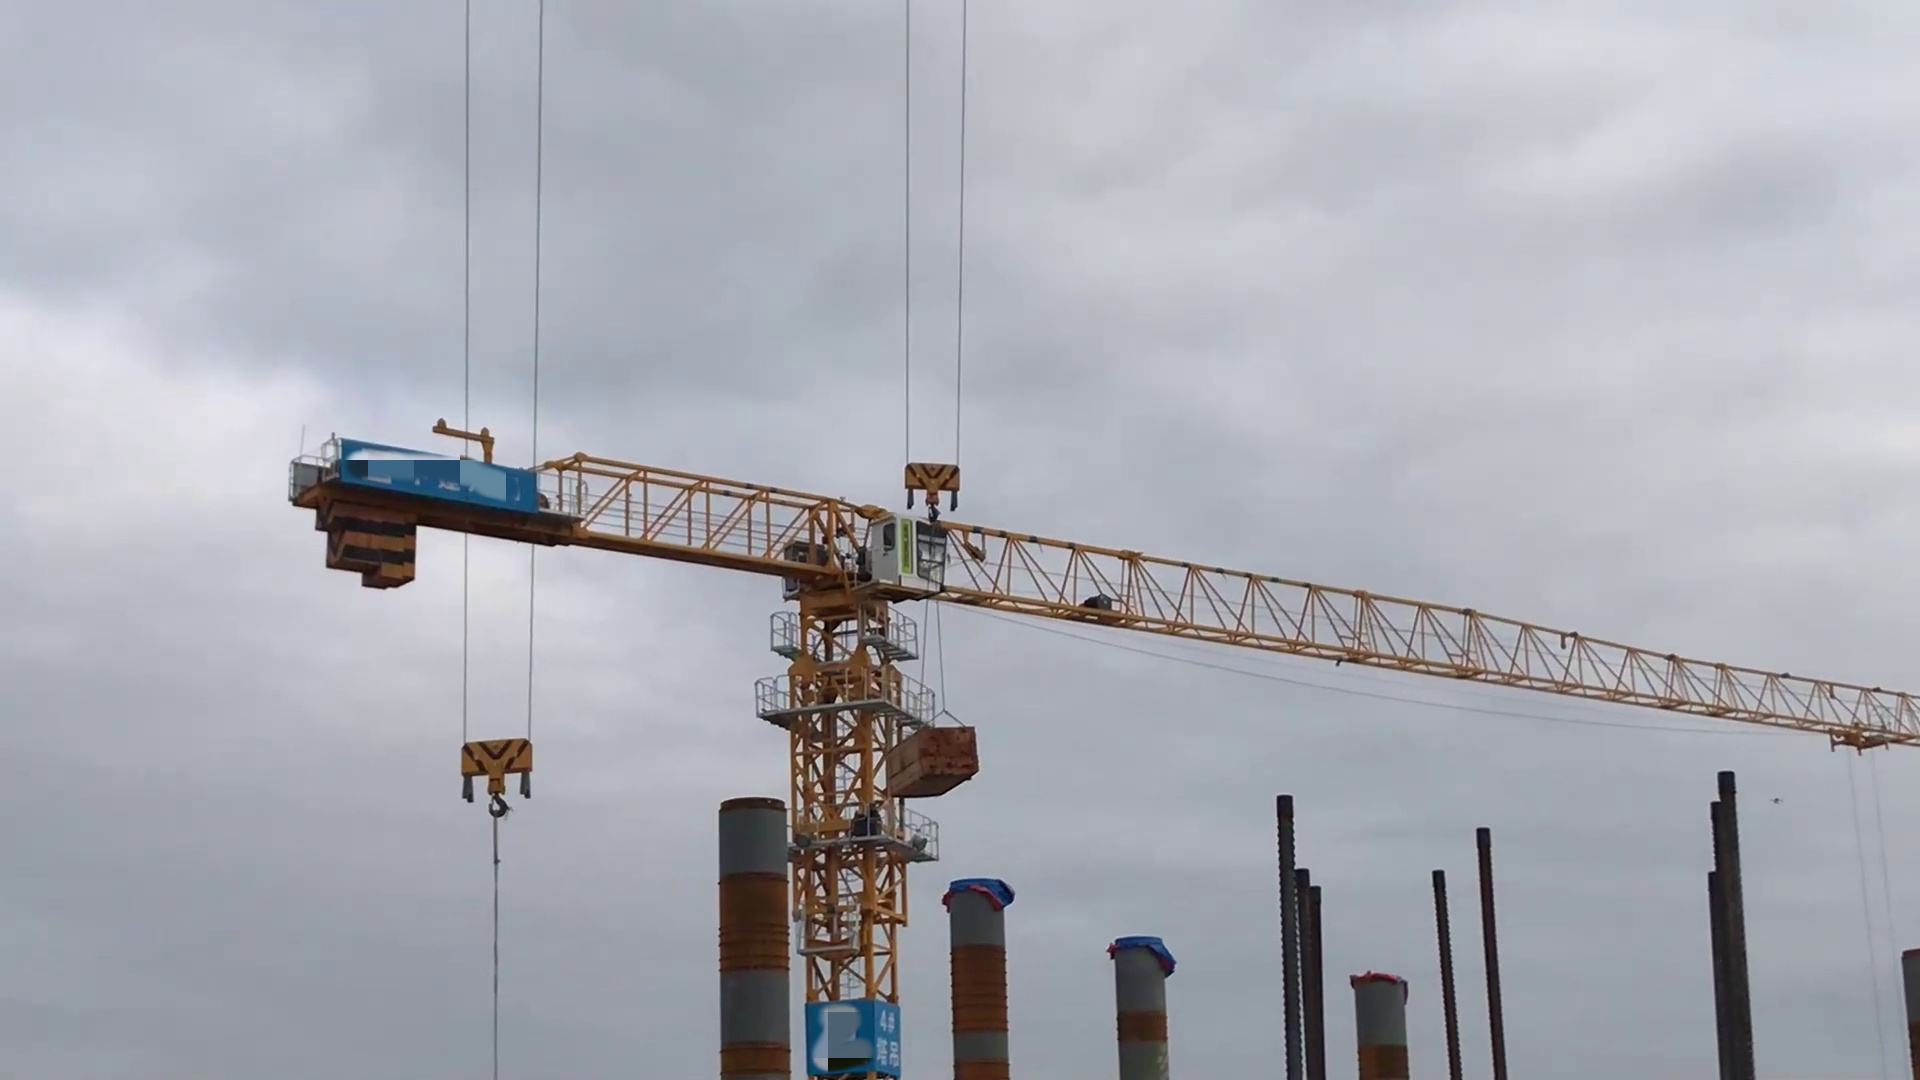hook: (455, 732, 541, 820), (895, 451, 976, 512)
